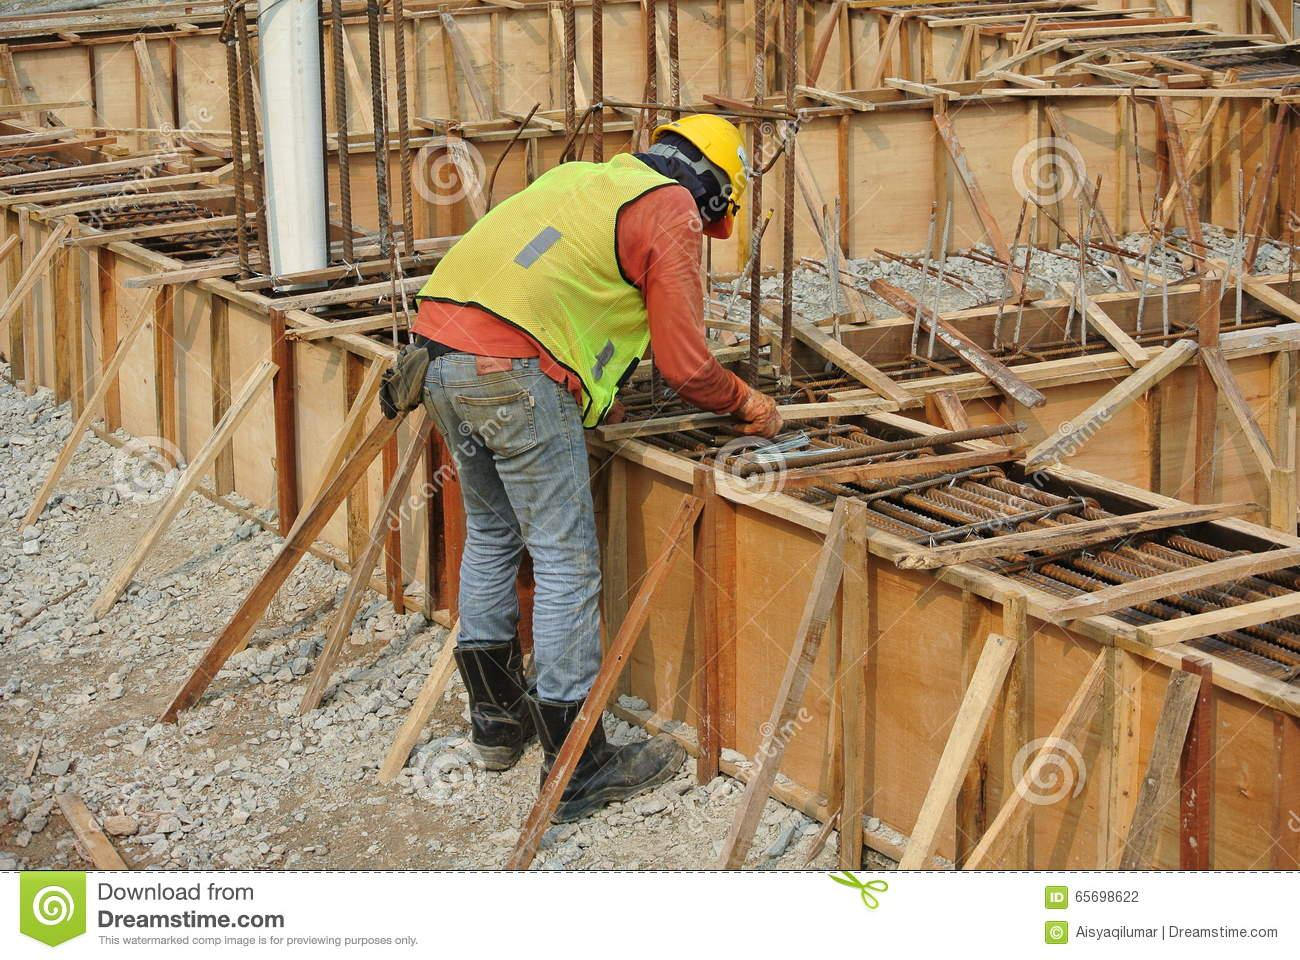helmet: (670, 118, 753, 212)
